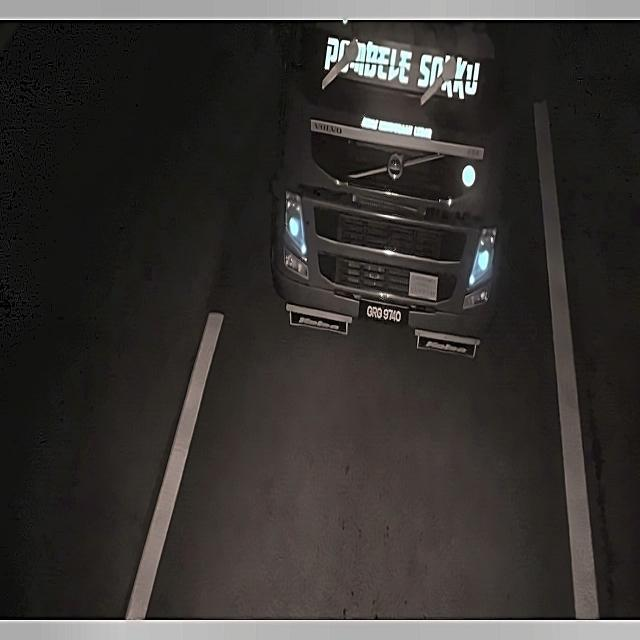car: (356, 290, 410, 333)
